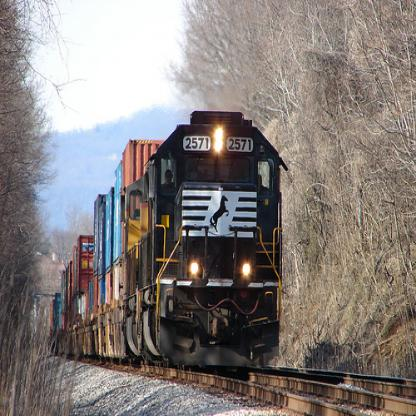train: (47, 109, 283, 368)
